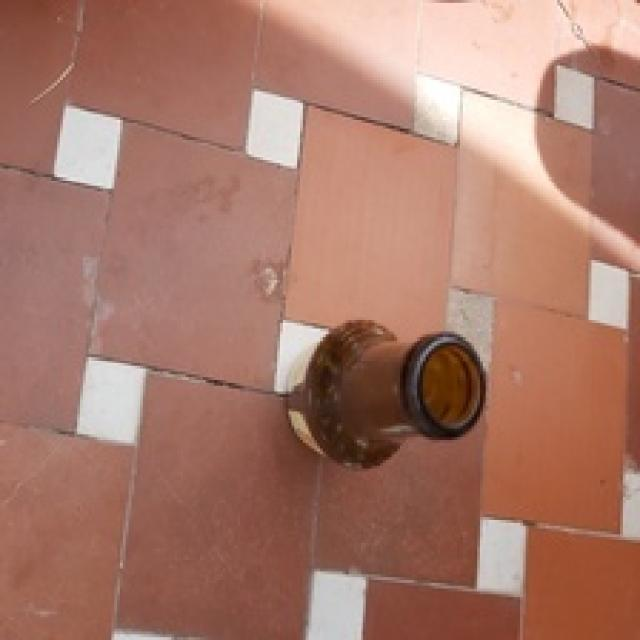Glass: (284, 318, 487, 474)
